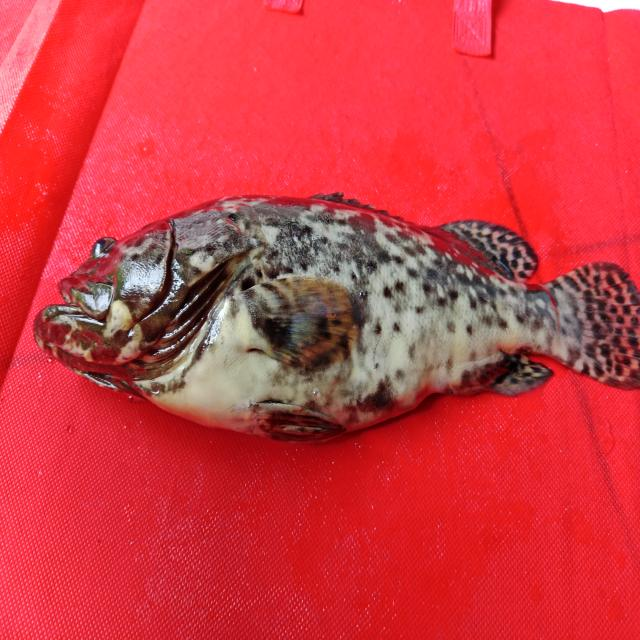ikan: (24, 178, 632, 450)
